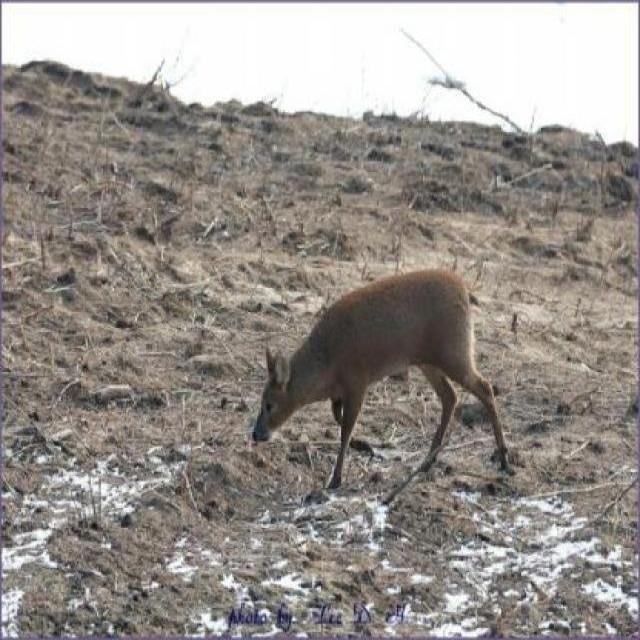deer: (245, 257, 530, 512)
